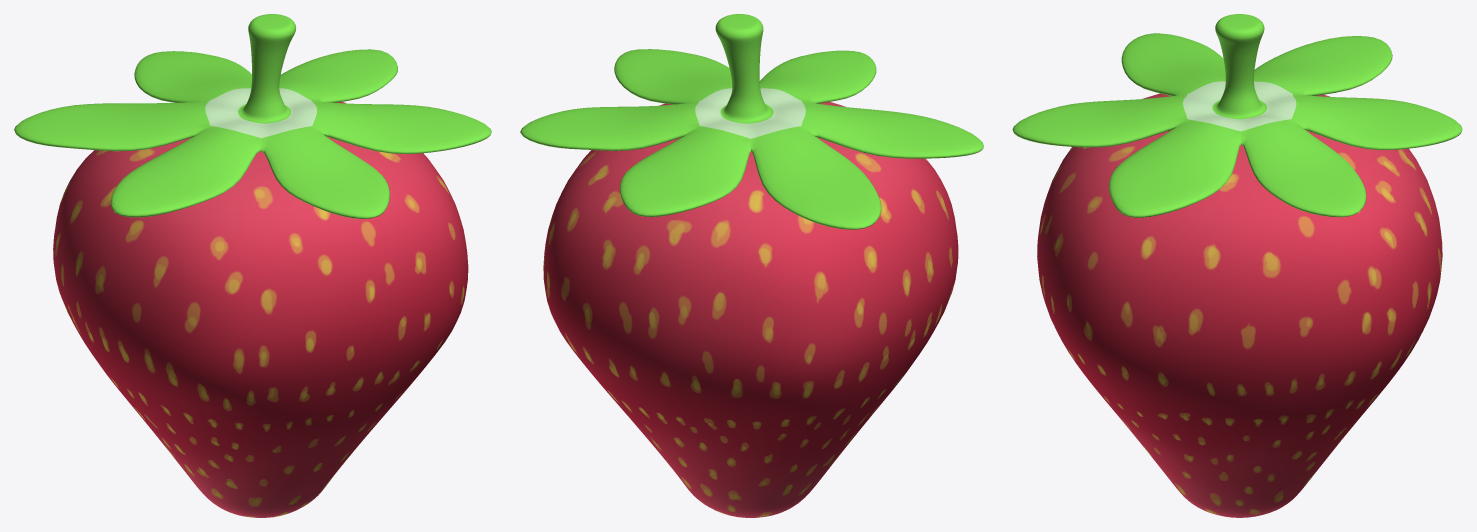
Rendered from Strawberry-3.fbx.
The picture shows the model from 3 angles, left to right: view 1: azimuth 30°, elevation 25°; view 2: azimuth 150°, elevation 25°; view 3: azimuth 270°, elevation 25°; orthographic projection.
Visible parts, largest first — view 1: hojas; view 2: hojas; view 3: hojas.
Boxes of the visible parts, x1,y1,x2,y2 form: hojas: (14, 14, 491, 517); hojas: (520, 14, 983, 517); hojas: (1012, 14, 1462, 517).
Size of the model in its own units: 475 by 601 by 497.
1 material, 1 textured.
